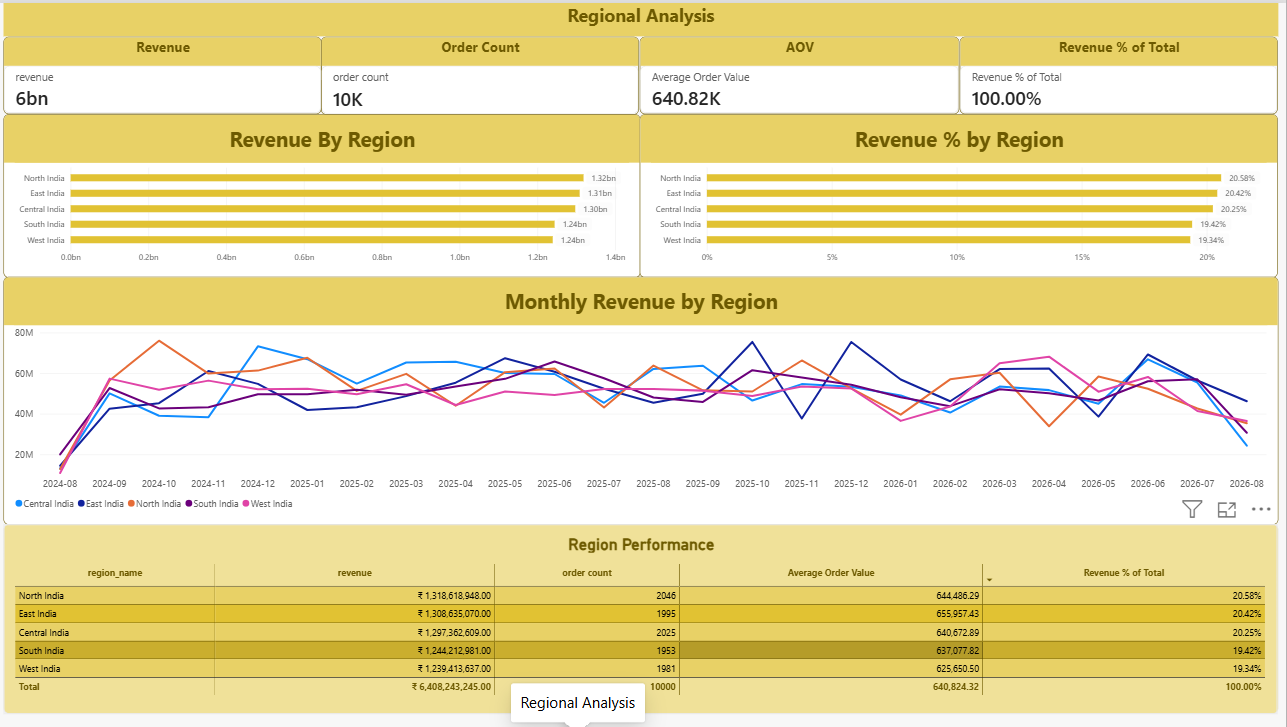

What the dashboard file says about the page in this screenshot:
{"tool":"powerbi","page":{"name":"Regional Analysis","canvas":[1920,1080],"ordinal":2},"visuals":[{"type":"textbox","box":[10.3,0,1895.7,49.4],"z":0},{"type":"cardVisual","title":"AOV","fields":{"Data":["_measures.Average Order Value"]},"box":[957.1,49.4,475.5,115.3],"z":1000},{"type":"cardVisual","title":"Revenue","fields":{"Data":["_measures.revenue"]},"box":[10.3,49.4,473.1,115.3],"z":2000},{"type":"cardVisual","title":"Order Count","fields":{"Data":["_measures.order count"]},"box":[483.7,49.4,473,115.8],"z":3000},{"type":"cardVisual","title":"Revenue % of Total","fields":{"Data":["_measures.Revenue % of Total"]},"box":[1432.6,49.4,473,115.3],"z":4000},{"type":"clusteredBarChart","title":"Revenue By Region","fields":{"Category":["regions.region_name"],"Y":["_measures.revenue"]},"box":[10.3,164.7,946.8,242.9],"z":5000},{"type":"clusteredBarChart","title":"Revenue % by Region   ","fields":{"Category":["regions.region_name"],"Y":["_measures.Revenue % of Total"]},"box":[957.1,164.7,948.9,242.9],"z":6000},{"type":"lineChart","title":"Monthly Revenue by Region ","fields":{"Category":["DimDate.Year Month"],"Series":["regions.region_name"],"Y":["_measures.revenue"]},"box":[10.3,407.5,1895.7,368.4],"z":7000},{"type":"tableEx","title":"Region Performance ","fields":{"Values":["regions.region_name","_measures.revenue","_measures.order count","_measures.Average Order Value","_measures.Revenue % of Total"]},"box":[10.3,776,1895.7,282],"z":8000}]}

Visuals, with their boxes in screenshot pixels (x1, y1, x2, y2), scaled from the page's 1920x1080 canvas onto the 1287x727 screenshot:
textbox: crop(7, 0, 1278, 33)
"AOV" cardVisual: crop(642, 33, 960, 111)
"Revenue" cardVisual: crop(7, 33, 324, 111)
"Order Count" cardVisual: crop(324, 33, 641, 111)
"Revenue % of Total" cardVisual: crop(960, 33, 1277, 111)
"Revenue By Region" clusteredBarChart: crop(7, 111, 642, 274)
"Revenue % by Region   " clusteredBarChart: crop(642, 111, 1278, 274)
"Monthly Revenue by Region " lineChart: crop(7, 274, 1278, 522)
"Region Performance " tableEx: crop(7, 522, 1278, 712)
